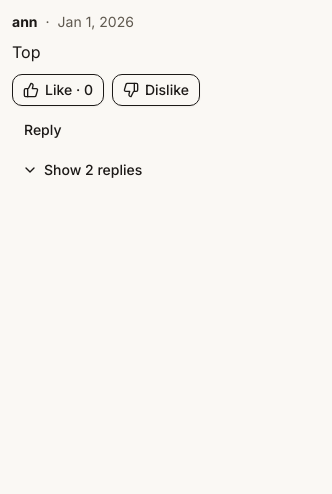
Test: CommentThread › loads Replies on first expand only, then toggles without fetching
Click the button "Show 2 replies": {"x": 82, "y": 170} [12, 154, 152, 186]
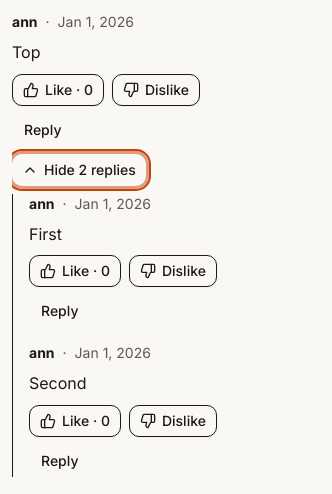
Check: the text "First" is shown, box [29, 224, 62, 244]
Check: the text "Second" is shown, box [29, 373, 87, 393]
Click the button "Hide 2 replies": {"x": 79, "y": 170} [12, 154, 146, 186]
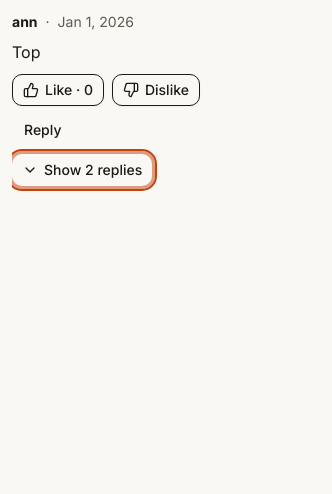
Check: the text "First" is gone
Click the button "Show 2 replies": {"x": 82, "y": 170} [12, 154, 152, 186]
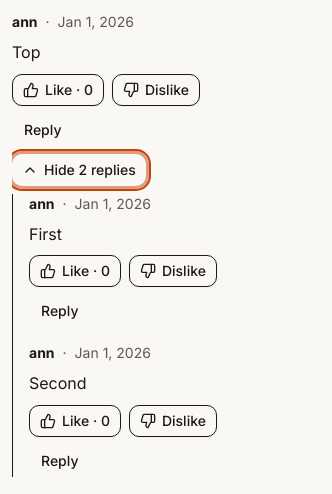
Check: the text "First" is shown, box [29, 224, 62, 244]
